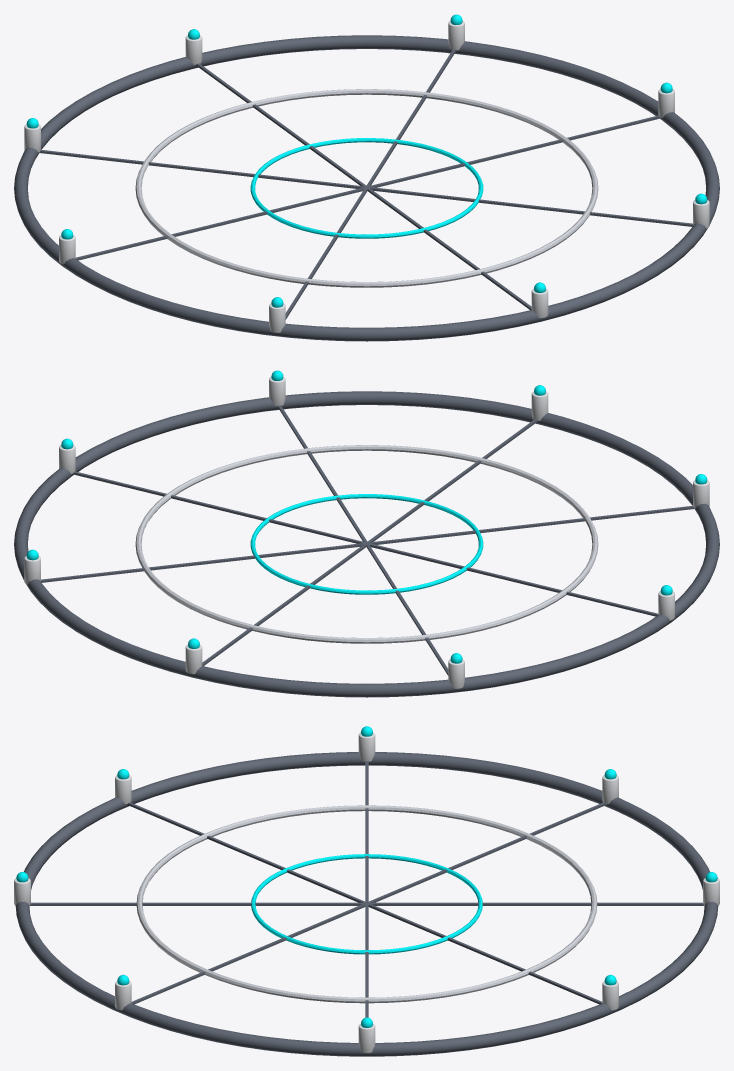
Rendered from blast_calorimeter.glb.
The picture shows the model from 3 angles, top to bottom: view 1: azimuth 30°, elevation 25°; view 2: azimuth 150°, elevation 25°; view 3: azimuth 270°, elevation 25°; orthographic projection.
Parts seen in each view (by area): view 1: Torus; view 2: Torus; view 3: Torus.
Part boxes in pixels (x1,y1,x2,y2): Torus: [14, 14, 719, 341]; Torus: [14, 370, 719, 697]; Torus: [14, 726, 719, 1056].
Size of the model in its own units: 18.44 by 1.09 by 18.44.
